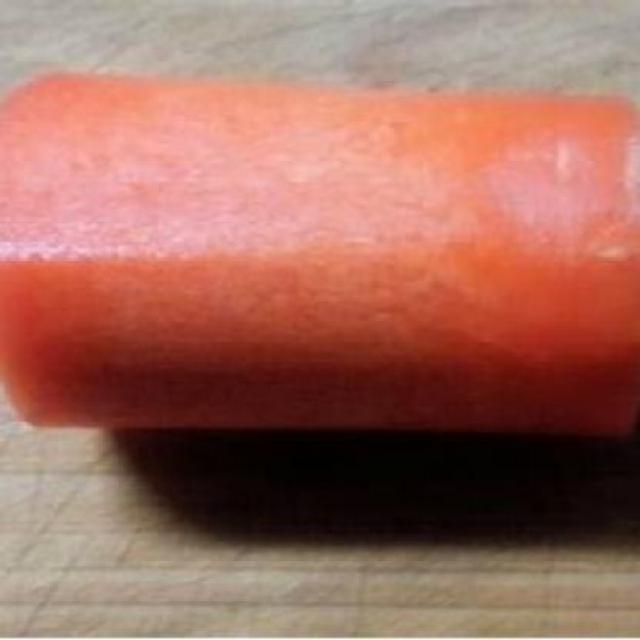carrot: (1, 58, 640, 459)
